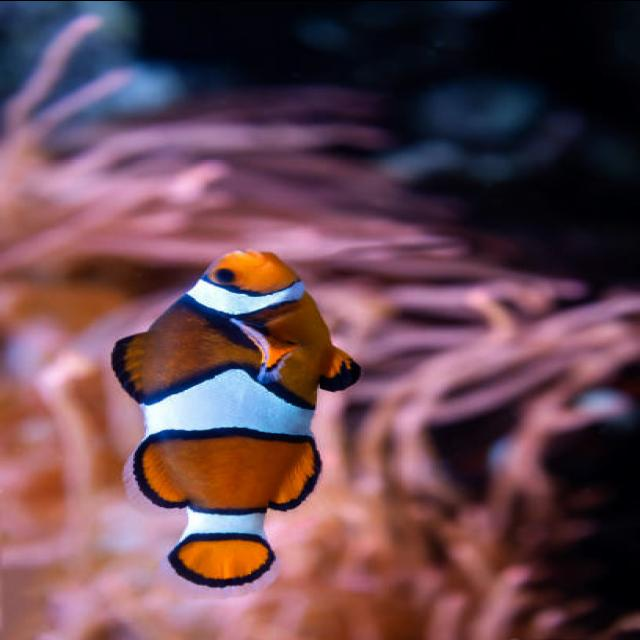ClownFish: (109, 246, 362, 589)
